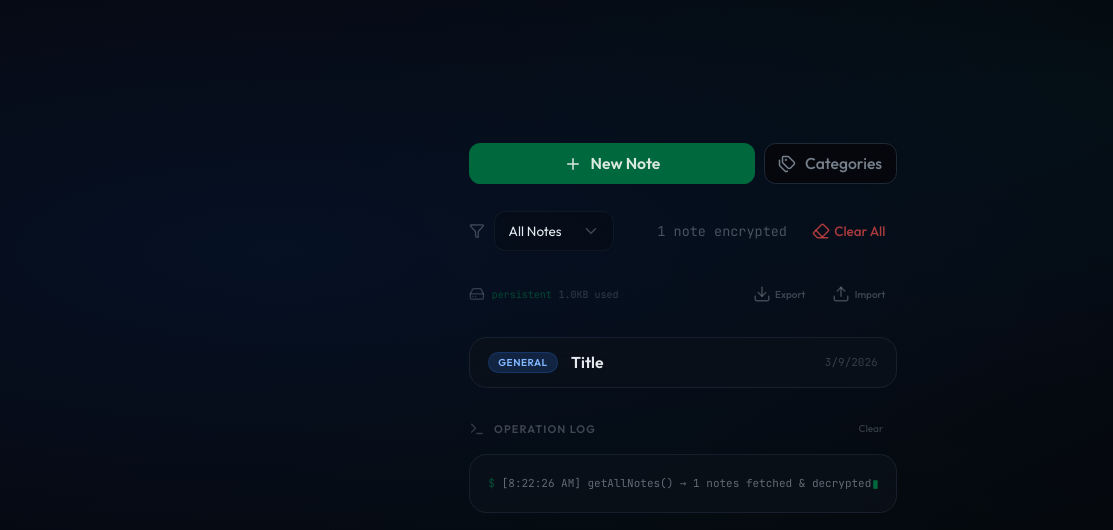
Test: NotesApp › note content is displayed in detail view
The image size is (1113, 530).
Expected: the text "My visible content here" is not shown
Note: Click note to open detail view
What coordinates should you click on to do the following:
click the heading "Title"
I would click on:
 (587, 362)
Its box is [571,352,604,372].
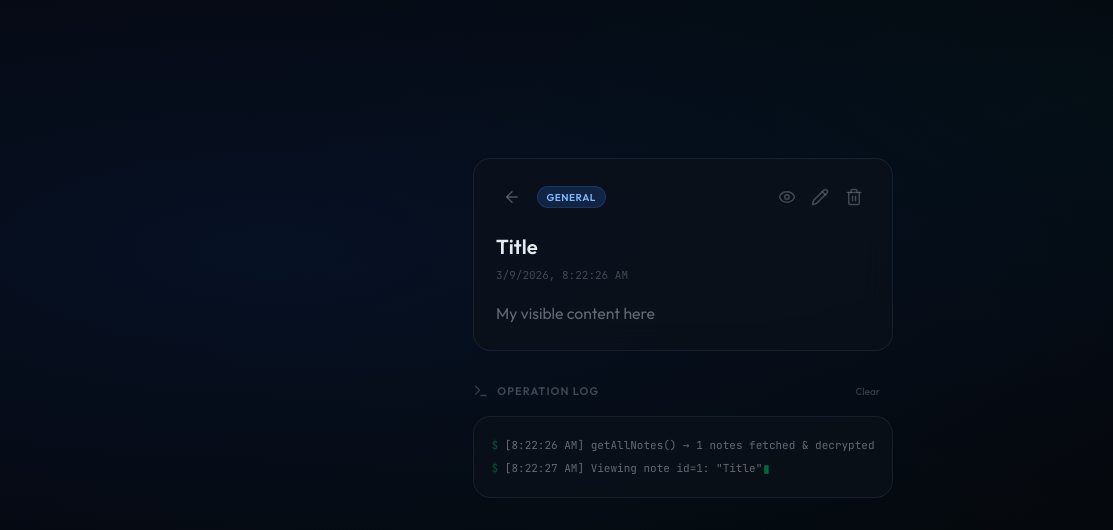
Now the text "My visible content here" is shown, box [496,303,655,323]
